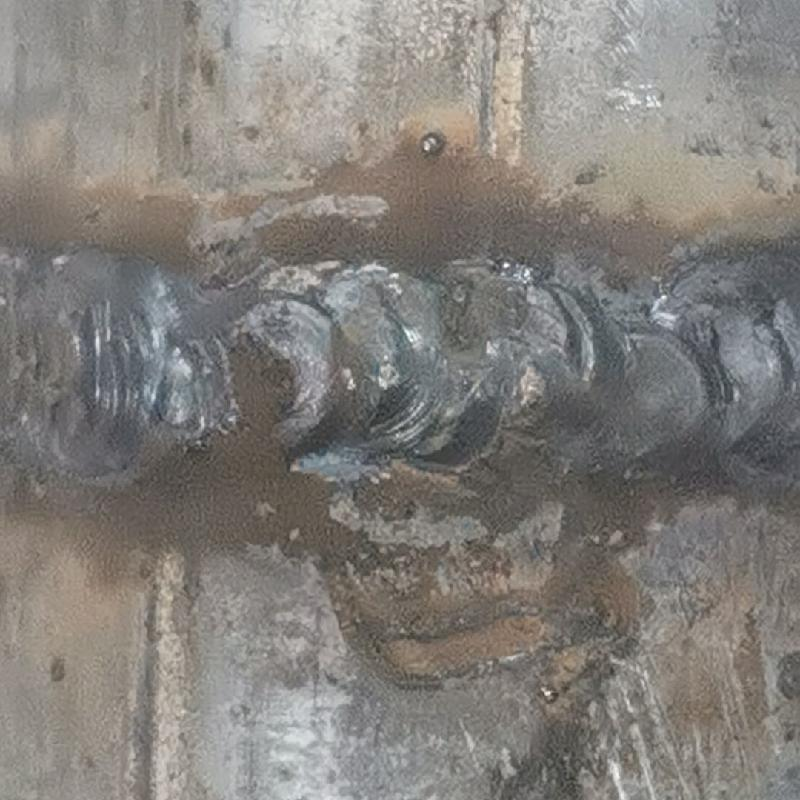good: (0, 235, 799, 496)
